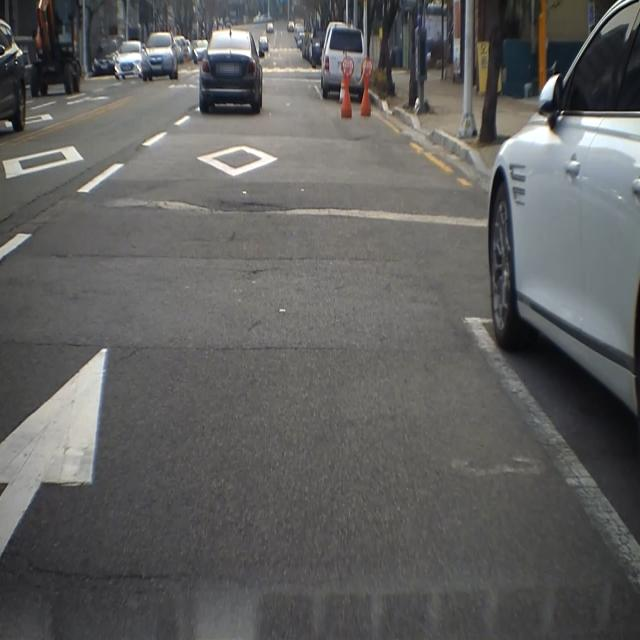Pothole: (190, 190, 299, 236)
